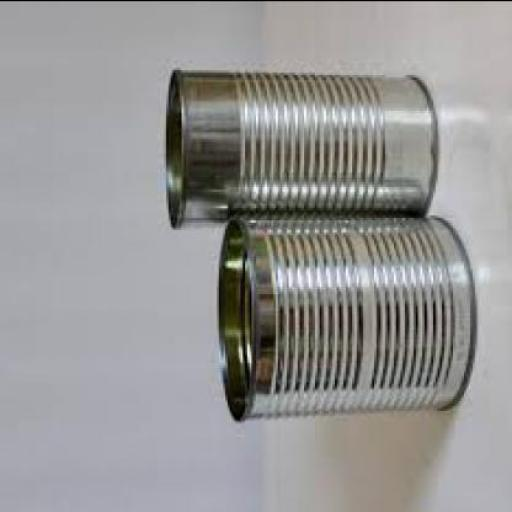metal: (212, 212, 475, 422), (164, 62, 440, 226)
